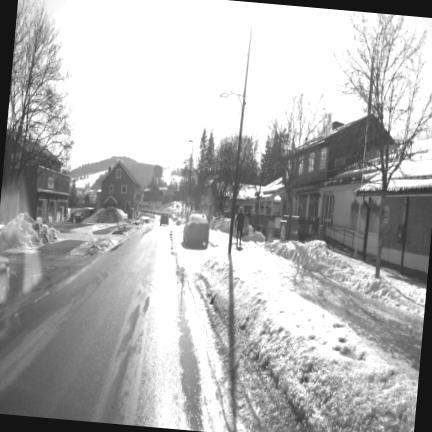Road: (0, 226, 219, 430)
